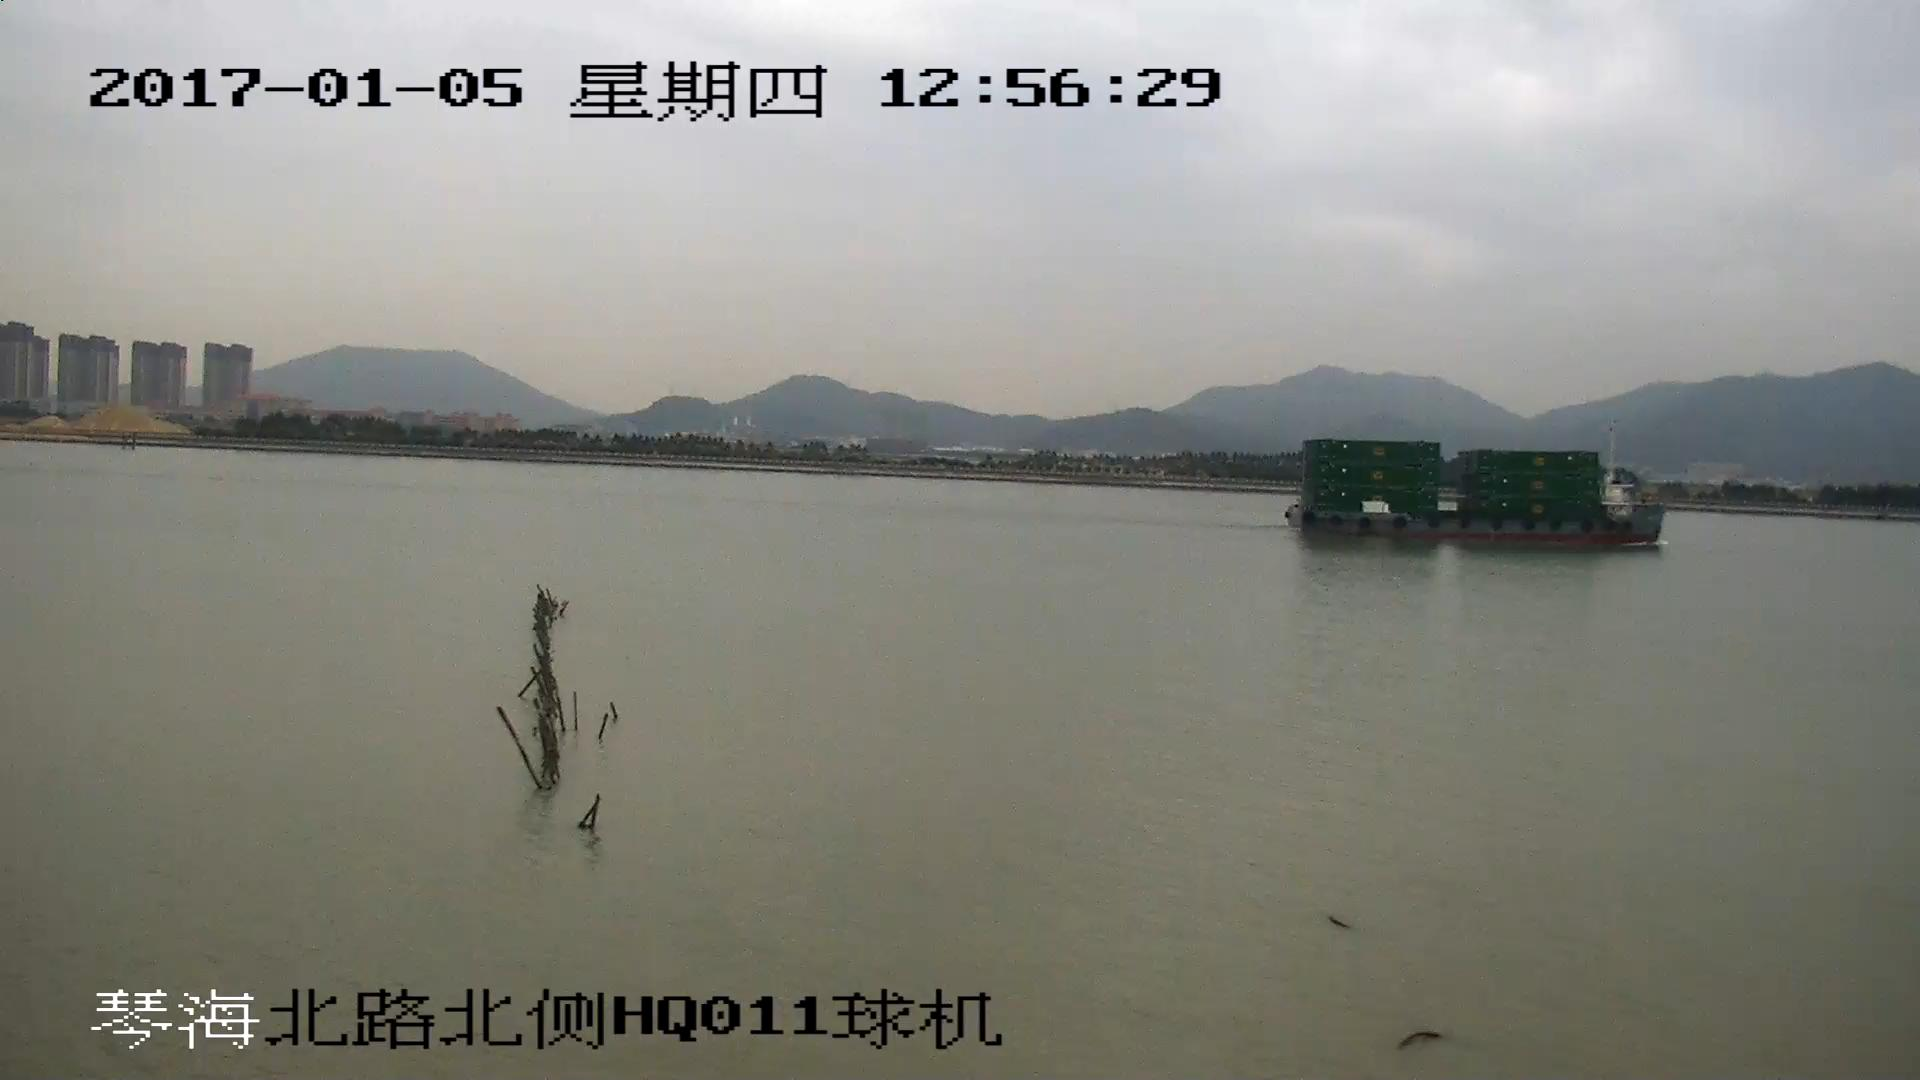container ship: (1291, 439, 1658, 547)
